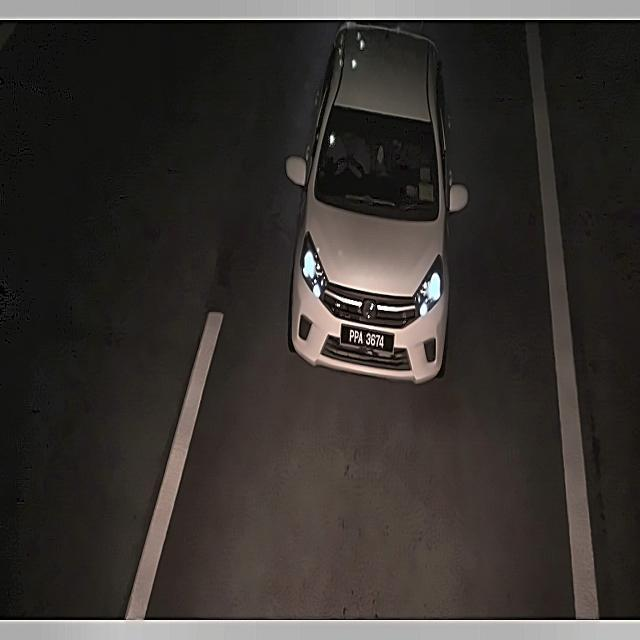car: (341, 320, 393, 357)
